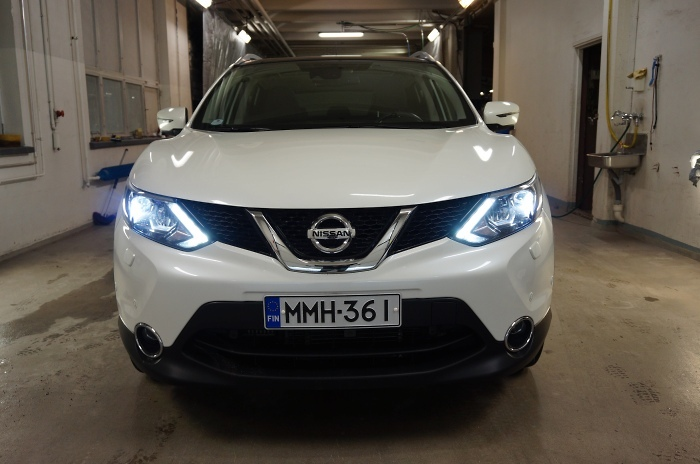license: (263, 291, 400, 330)
